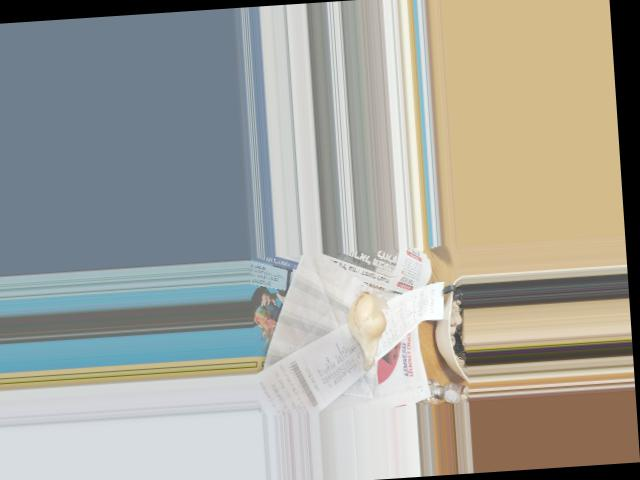onion: (347, 289, 389, 357)
